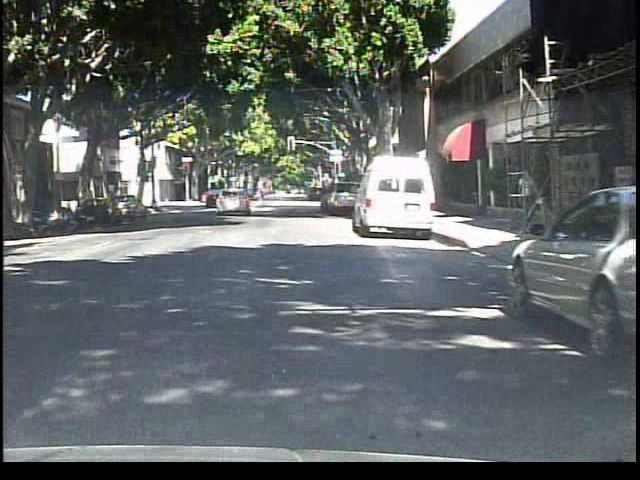person: (513, 164, 540, 232), (251, 178, 271, 212)
